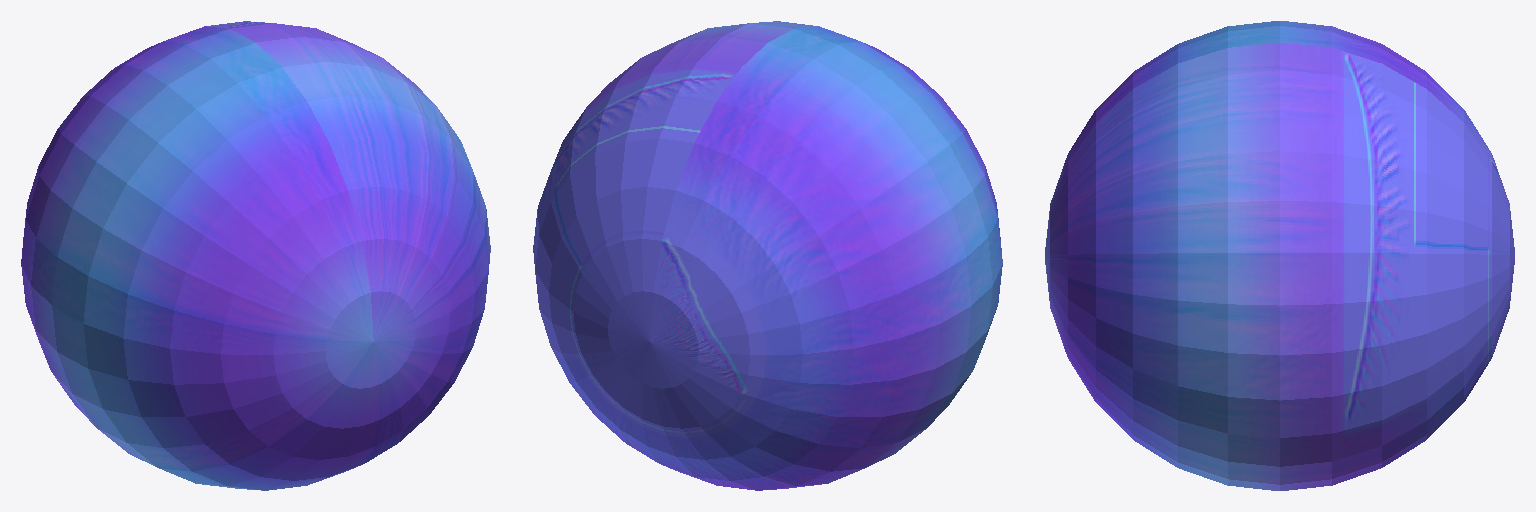
3 views of the same model, side by side, from view 1: azimuth 30°, elevation 25°; view 2: azimuth 150°, elevation 25°; view 3: azimuth 270°, elevation 25° (orthographic).
Visible parts, largest first — view 1: Sphere001; view 2: Sphere001; view 3: Sphere001.
Part boxes in pixels (bbox=[...]): Sphere001: bbox=[21, 21, 490, 490]; Sphere001: bbox=[533, 21, 1002, 490]; Sphere001: bbox=[1045, 21, 1514, 490].
Bounding box in the file's own units: 24.42 × 24.42 × 24.42.
1 materials, 1 textured.